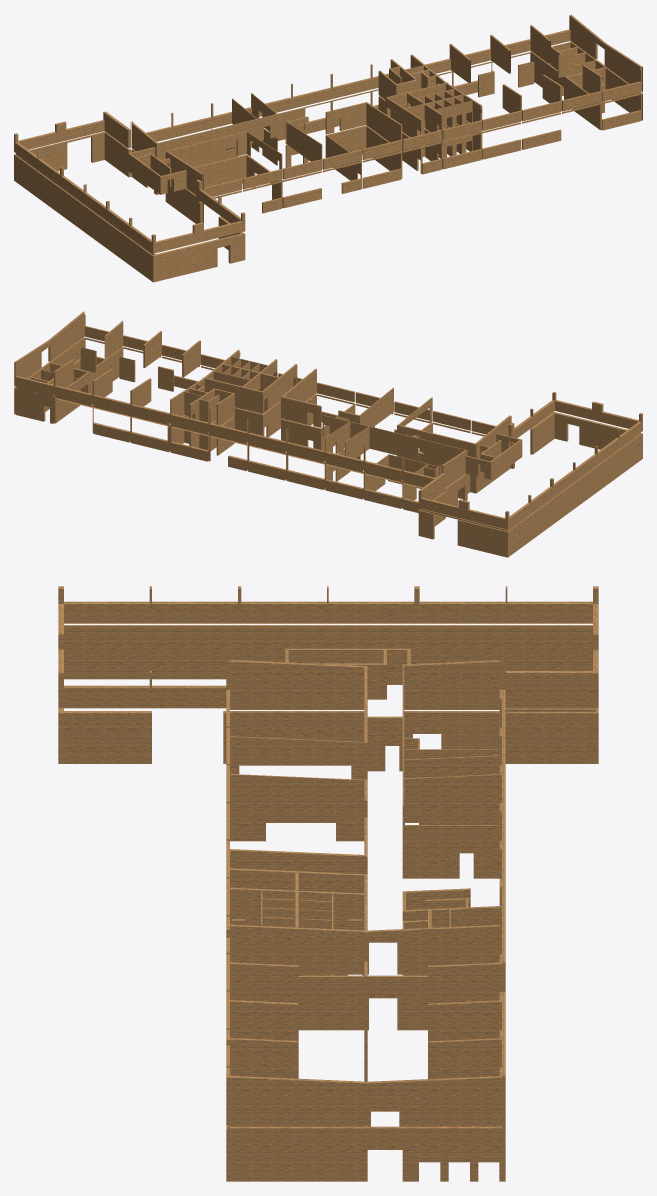
Rendered from 3D_Modell_Gruppe_B.glb.
3 views of the same model, one above another, from view 1: azimuth 30°, elevation 25°; view 2: azimuth 150°, elevation 25°; view 3: azimuth 270°, elevation 25° (orthographic). The views are drawn at different scales.
Visible parts, largest first — view 1: Modell; view 2: Modell; view 3: Modell.
Boxes of the visible parts, bbox=[...] form: Modell: bbox=[14, 14, 642, 282]; Modell: bbox=[14, 311, 642, 557]; Modell: bbox=[58, 586, 598, 1181].
Size of the model in its own units: 85.52 by 8.24 by 38.7.
Materials: 1 (1 with a texture image).
